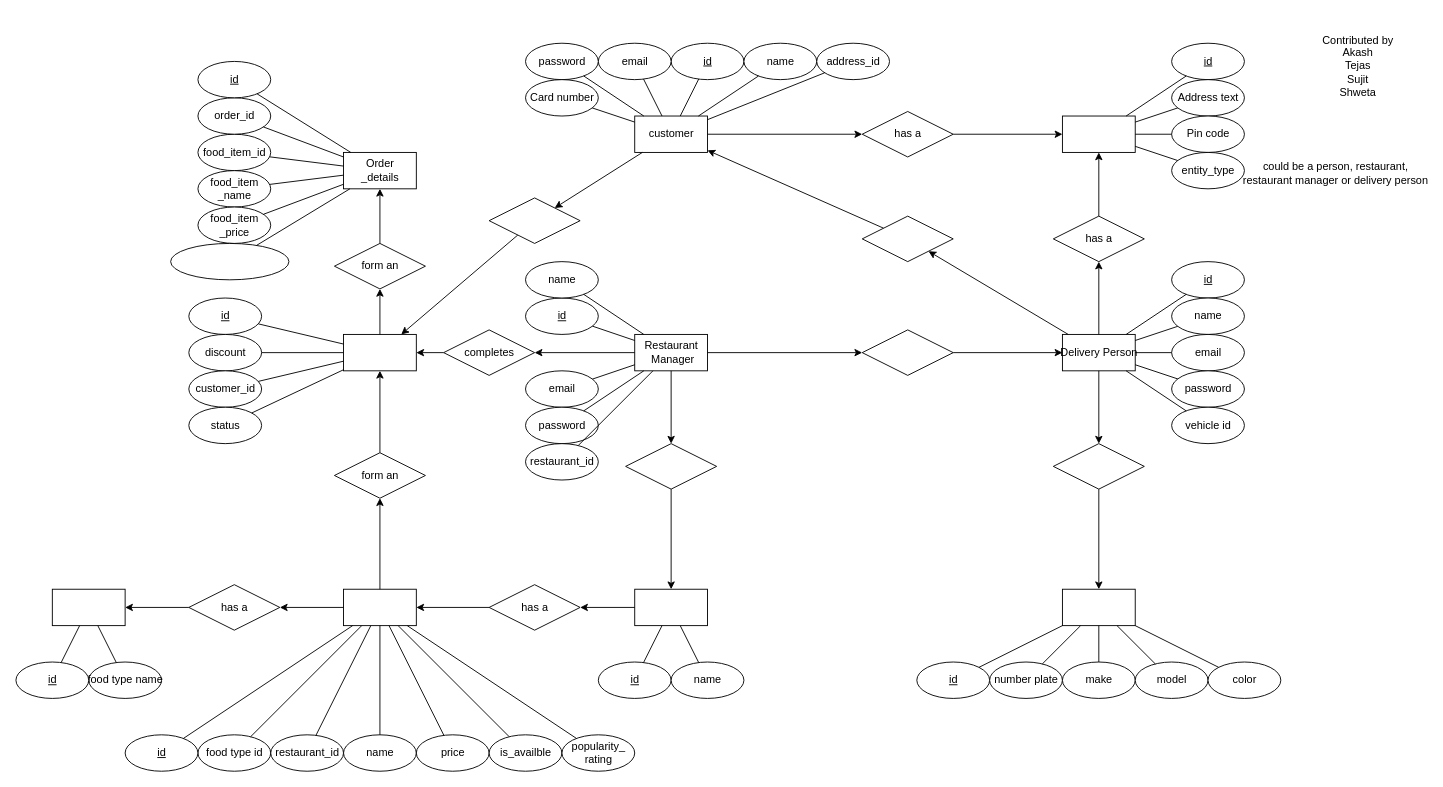
The diagram is 1443 pixels wide and 787 high, and some of its shapes have lost their labels. Here are the shapes that lost their labels. From the top down, the centre of each, then its label:
At point 1098,133: "address".
At point 534,220: "places".
At point 907,238: "delivers order".
At point 229,261: "individual_discount".
At point 379,352: "Orders".
At point 907,352: "assigns delivery".
At point 671,466: "manages".
At point 1098,466: "drives a".
At point 88,607: "Food Type".
At point 379,607: "Food Item (from the menu)".
At point 671,607: "Restaurant".
At point 1098,607: "Vehicle".
